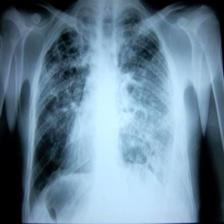tuberculosis: (23, 4, 190, 220)
